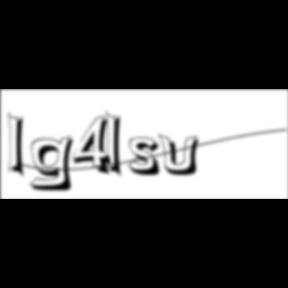4: (72, 115, 118, 179)
I: (8, 110, 32, 182)
g: (29, 134, 81, 194)
l: (106, 108, 128, 182)
s: (128, 137, 168, 179)
u: (158, 132, 206, 178)
